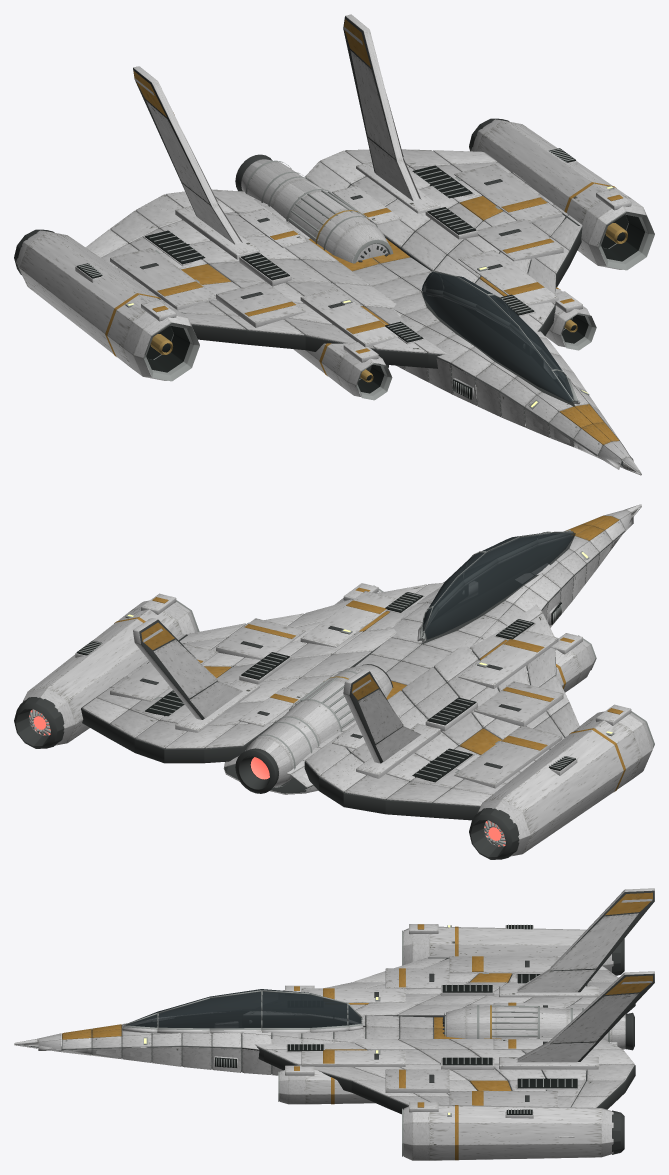
The picture shows the model from 3 angles, top to bottom: view 1: azimuth 30°, elevation 25°; view 2: azimuth 150°, elevation 25°; view 3: azimuth 270°, elevation 25°; orthographic projection. The views are drawn at different scales.
Visible parts, largest first — view 1: Spaceship CGPT-14_0; view 2: Spaceship CGPT-14_0; view 3: Spaceship CGPT-14_0.
Boxes of the visible parts, bbox=[...] form: Spaceship CGPT-14_0: bbox=[14, 14, 654, 475]; Spaceship CGPT-14_0: bbox=[14, 504, 654, 859]; Spaceship CGPT-14_0: bbox=[14, 888, 654, 1160].
Size of the model in its own units: 14.49 by 4.65 by 19.31.
Materials: 8 (1 with a texture image).
